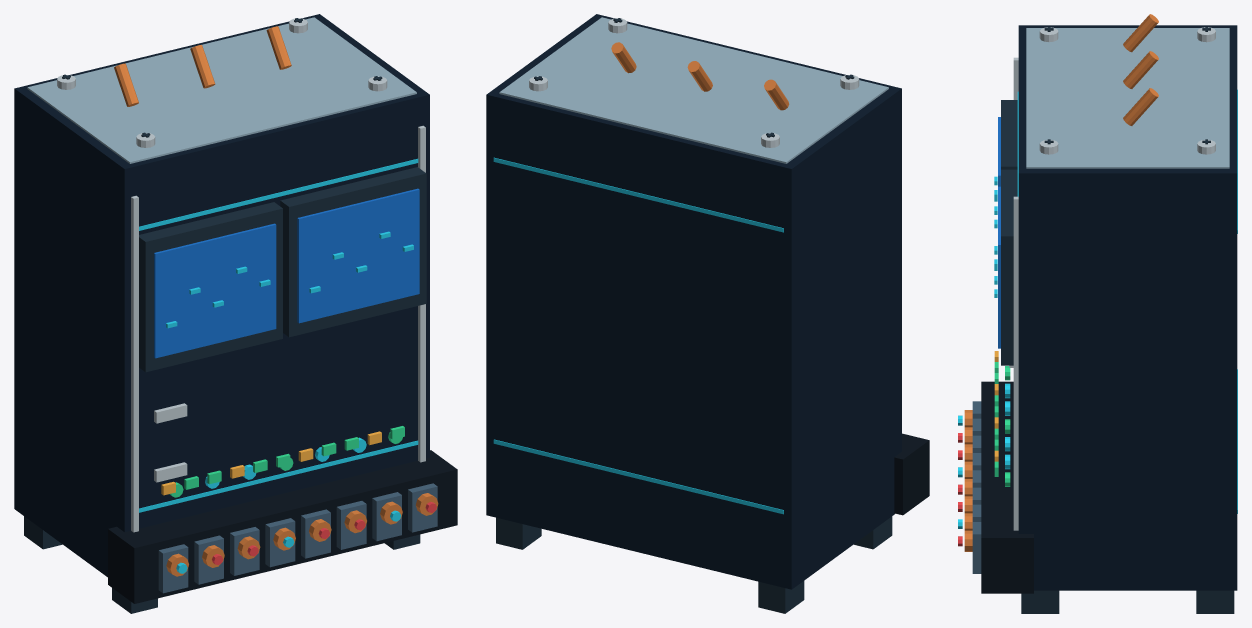
Rendered from 58_L77_CopperPlanarizationPLCRack.fbx.
3 views of the same model, side by side, from view 1: azimuth 30°, elevation 25°; view 2: azimuth 150°, elevation 25°; view 3: azimuth 270°, elevation 25° (orthographic).
Parts seen in each view (by area): view 1: CopperPlanarizationPLCRack; view 2: CopperPlanarizationPLCRack; view 3: CopperPlanarizationPLCRack.
Part boxes in pixels (x1,y1,x2,y2): CopperPlanarizationPLCRack: [14, 14, 457, 613]; CopperPlanarizationPLCRack: [486, 14, 929, 613]; CopperPlanarizationPLCRack: [958, 14, 1237, 613].
Bounding box in the file's own units: 127 × 184 × 96.
